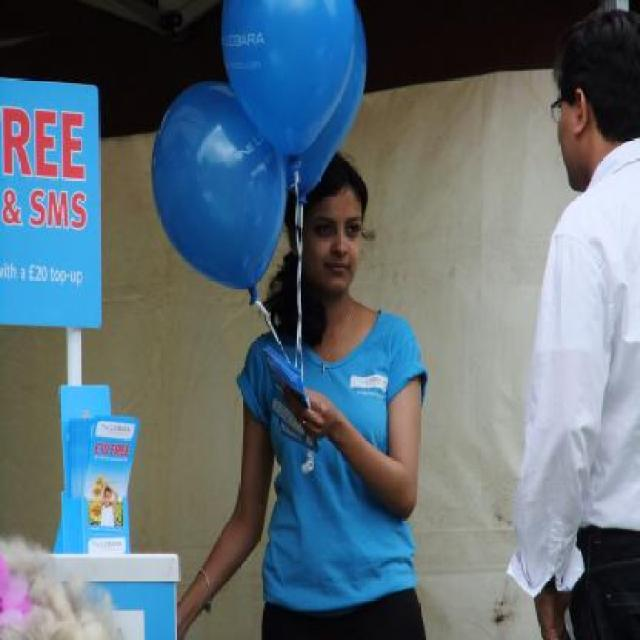balloon: (140, 64, 292, 302), (211, 0, 363, 172), (289, 1, 371, 202)
